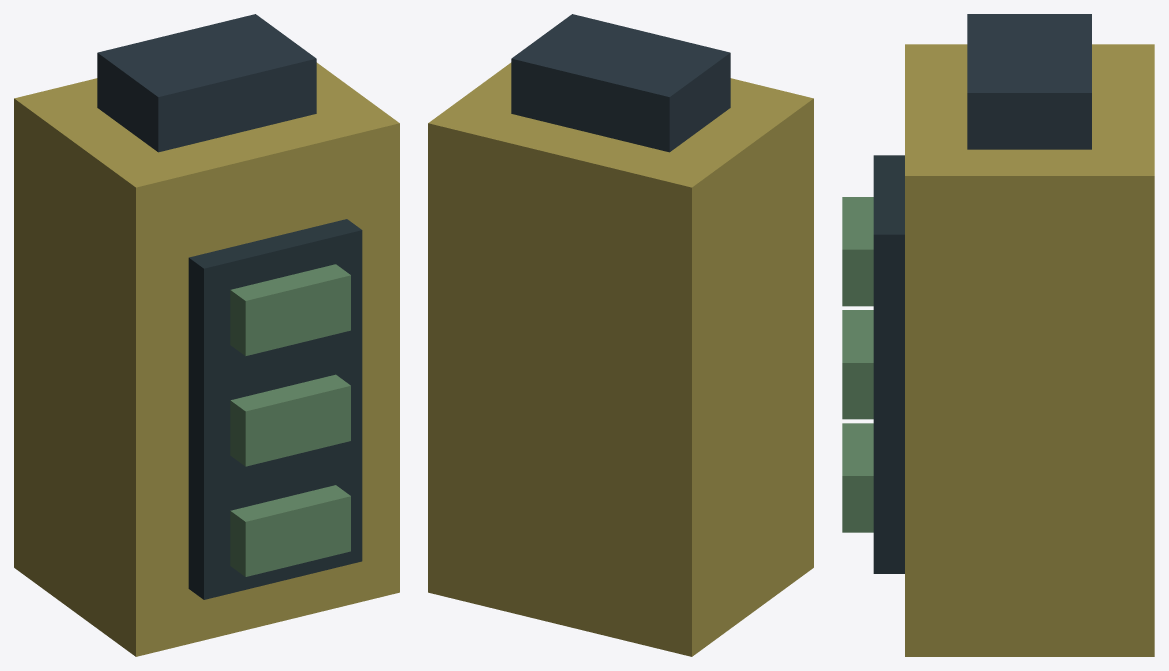
File: energy-03.glb
3 views of the same model, side by side, from view 1: azimuth 30°, elevation 25°; view 2: azimuth 150°, elevation 25°; view 3: azimuth 270°, elevation 25° (orthographic). The views are drawn at different scales.
Visible parts, largest first — view 1: Battery tower; view 2: Battery tower; view 3: Battery tower.
Part boxes in pixels (box(x1,y1,x2,y2)): Battery tower: box(14, 14, 399, 656); Battery tower: box(428, 14, 813, 656); Battery tower: box(842, 14, 1154, 656).
Bounding box in the file's own units: 0.8 × 1.52 × 0.8.
